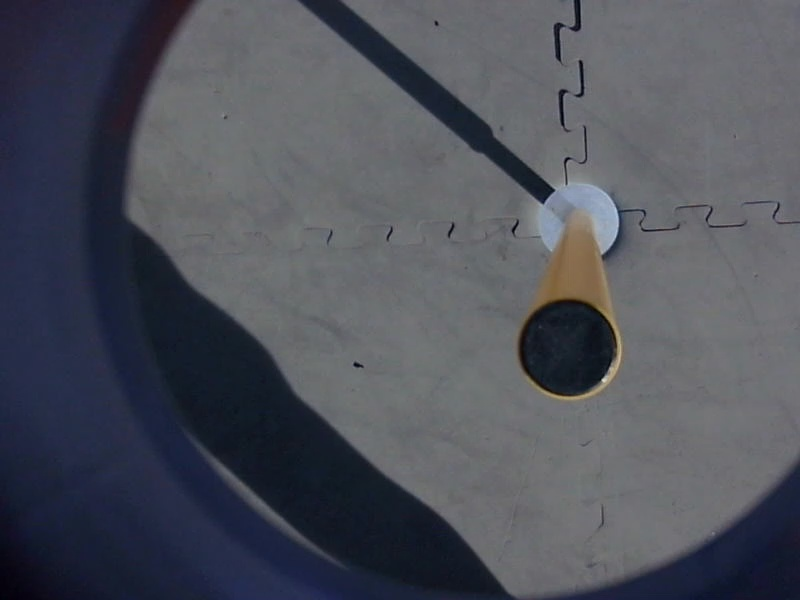tip: (507, 294, 630, 410)
